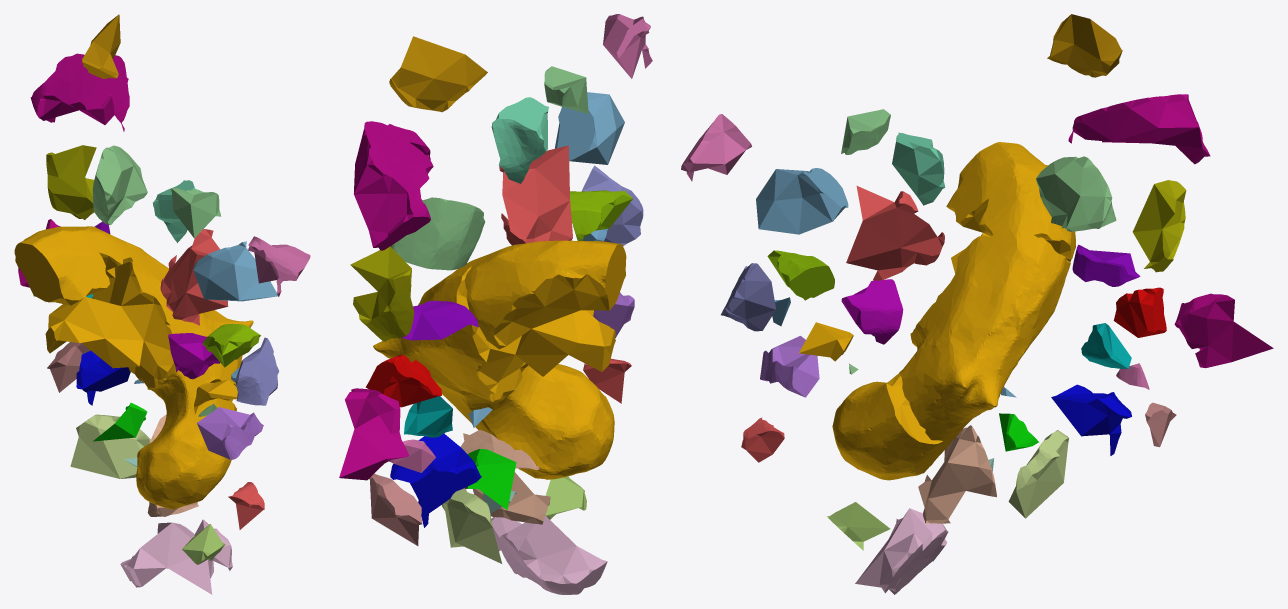
The model's file is fractured_53_34pcs_transformed.glb.
3 views of the same model, side by side, from view 1: azimuth 30°, elevation 25°; view 2: azimuth 150°, elevation 25°; view 3: azimuth 270°, elevation 25° (orthographic). The views are drawn at different scales.
Parts seen in each view (by area): view 1: piece_0.obj, piece_15.obj, piece_6.obj, piece_2.obj, piece_5.obj, piece_1.obj, piece_3.obj, piece_11.obj, piece_24.obj, piece_26.obj, piece_20.obj, piece_27.obj (+11 smaller); view 2: piece_0.obj, piece_15.obj, piece_6.obj, piece_1.obj, piece_17.obj, piece_3.obj, piece_19.obj, piece_11.obj, piece_10.obj, piece_2.obj, piece_22.obj, piece_7.obj (+14 smaller); view 3: piece_0.obj, piece_1.obj, piece_15.obj, piece_2.obj, piece_3.obj, piece_19.obj, piece_7.obj, piece_6.obj, piece_11.obj, piece_17.obj, piece_5.obj, piece_10.obj (+15 smaller).
Part boxes in pixels (<box>): piece_0.obj: <box>14,226,253,509</box>; piece_15.obj: <box>30,53,129,131</box>; piece_6.obj: <box>120,519,232,594</box>; piece_2.obj: <box>193,241,277,301</box>; piece_5.obj: <box>70,414,150,478</box>; piece_1.obj: <box>160,229,228,325</box>; piece_3.obj: <box>92,145,147,225</box>; piece_11.obj: <box>46,145,96,219</box>; piece_24.obj: <box>197,407,263,459</box>; piece_26.obj: <box>235,337,279,405</box>; piece_20.obj: <box>248,236,310,296</box>; piece_27.obj: <box>170,188,221,238</box>; piece_0.obj: <box>373,240,626,479</box>; piece_15.obj: <box>354,121,433,250</box>; piece_6.obj: <box>491,516,607,594</box>; piece_1.obj: <box>499,145,572,245</box>; piece_17.obj: <box>389,36,487,112</box>; piece_3.obj: <box>390,197,485,270</box>; piece_19.obj: <box>339,388,408,480</box>; piece_11.obj: <box>350,246,414,341</box>; piece_10.obj: <box>390,433,481,527</box>; piece_2.obj: <box>555,92,624,164</box>; piece_22.obj: <box>491,97,548,183</box>; piece_7.obj: <box>460,430,550,524</box>; piece_0.obj: <box>832,142,1075,480</box>; piece_1.obj: <box>846,186,944,280</box>; piece_15.obj: <box>1068,94,1210,164</box>; piece_2.obj: <box>756,168,848,234</box>; piece_3.obj: <box>1036,156,1116,231</box>; piece_19.obj: <box>1174,293,1273,368</box>; piece_7.obj: <box>918,425,996,523</box>; piece_6.obj: <box>855,508,948,594</box>; piece_11.obj: <box>1132,180,1186,272</box>; piece_17.obj: <box>1047,14,1122,77</box>; piece_5.obj: <box>1008,430,1068,518</box>; piece_10.obj: <box>1051,384,1131,455</box>.
Size of the model in its own units: 0.7733 by 1.78 by 1.66.
